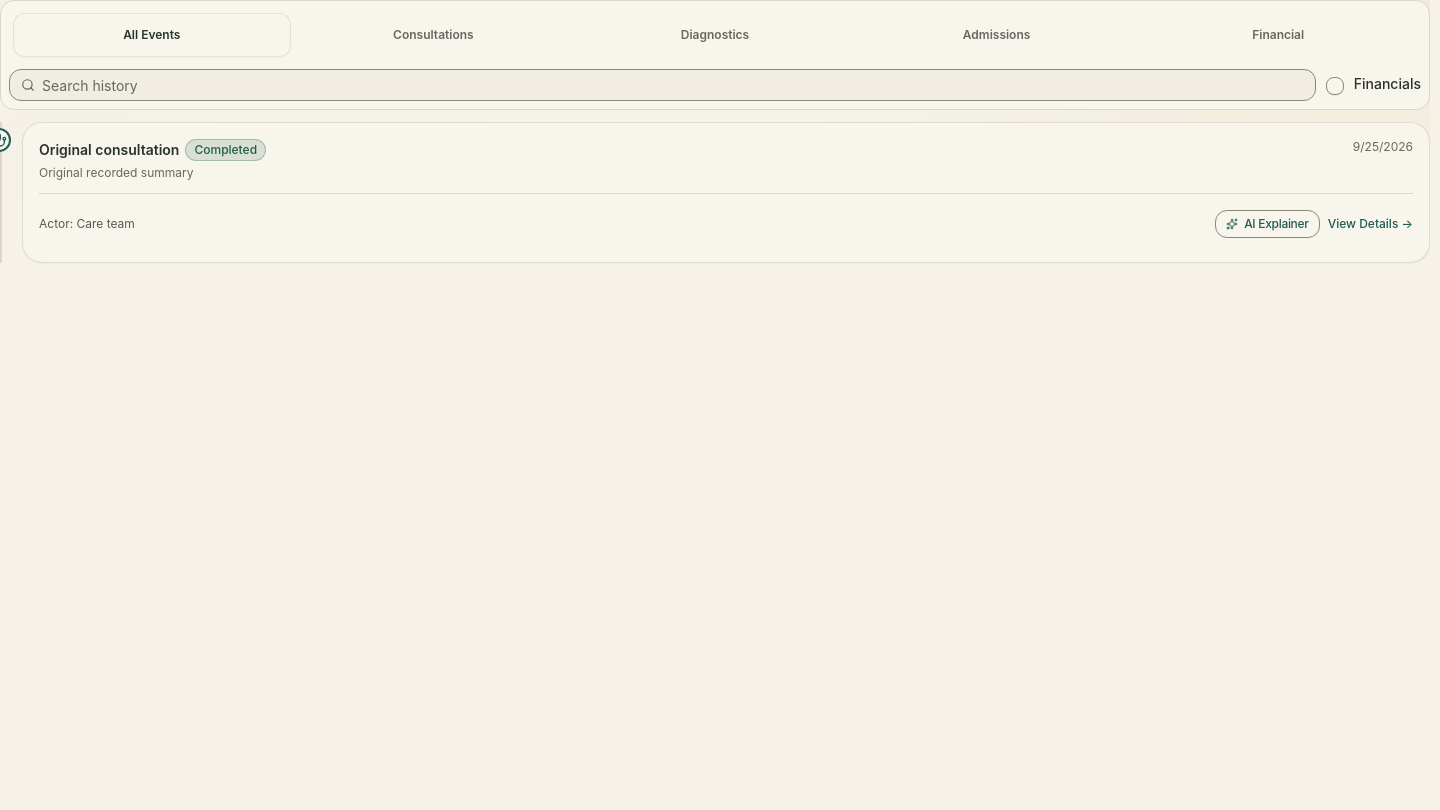
Test: Shared patient history recovery › retains the original record and reports failed explanation requests accurately
This screenshot has width=1440, height=810.
What coordinates should you click on to do the following:
click the button "AI Explainer"
I would click on:
 (1267, 224)
Its box is 1215,210 -> 1320,238.
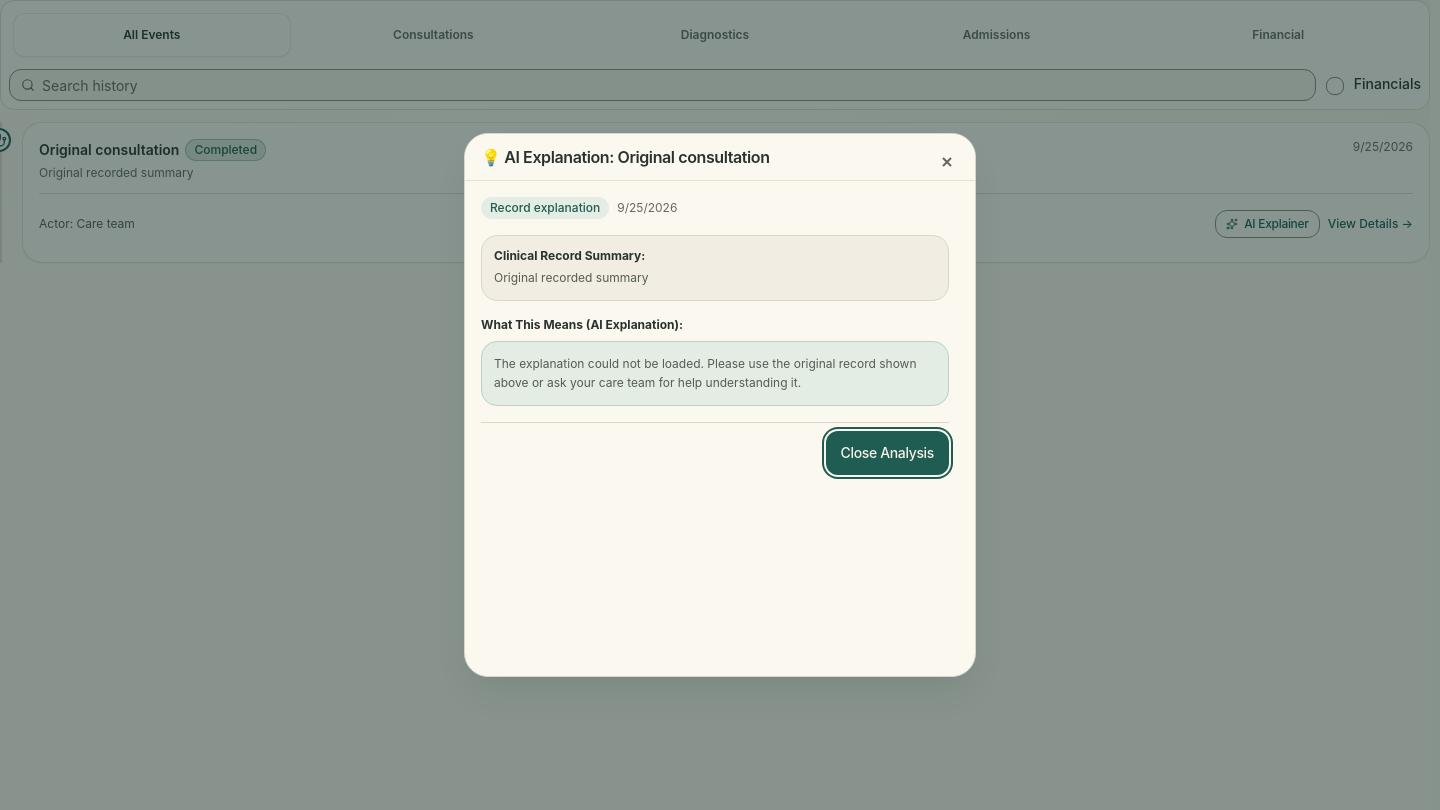
expect the text "Original recorded summary" is shown 2 times: met, box 39,165 -> 194,180; 494,270 -> 648,285
expect the text "The explanation could not be loaded" is shown: met, box 494,356 -> 916,390
